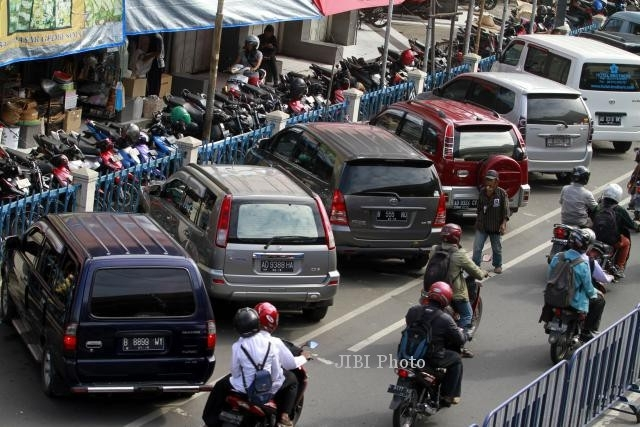plate: (123, 335, 164, 353), (376, 208, 409, 223), (261, 258, 293, 273), (387, 384, 410, 398), (546, 136, 571, 147), (454, 197, 478, 208), (598, 116, 620, 125)
